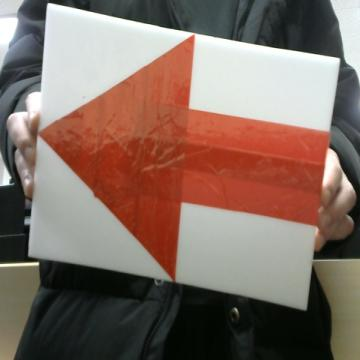red_left: (39, 35, 329, 280)
